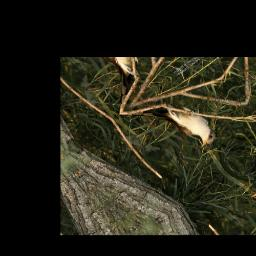Cuckoo: (128, 83, 224, 166)
